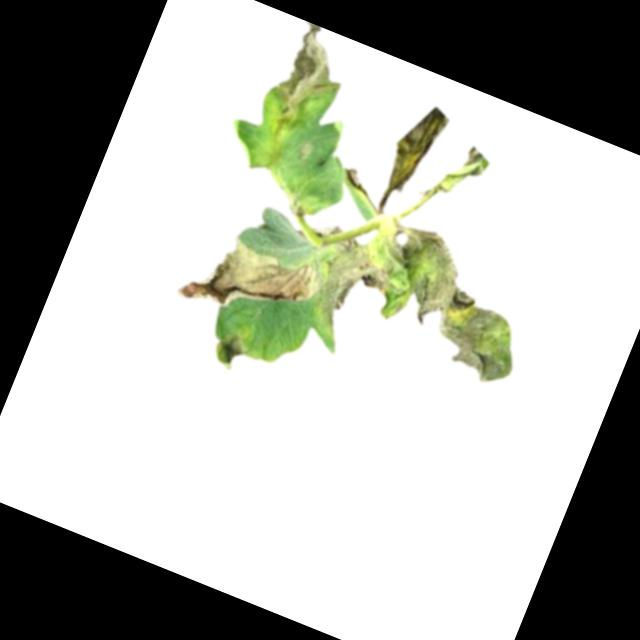Late_blight: (338, 214, 547, 392), (173, 220, 326, 348), (304, 227, 399, 349), (265, 20, 357, 134), (381, 105, 449, 199), (207, 319, 256, 375), (279, 187, 314, 221), (293, 138, 316, 162)
